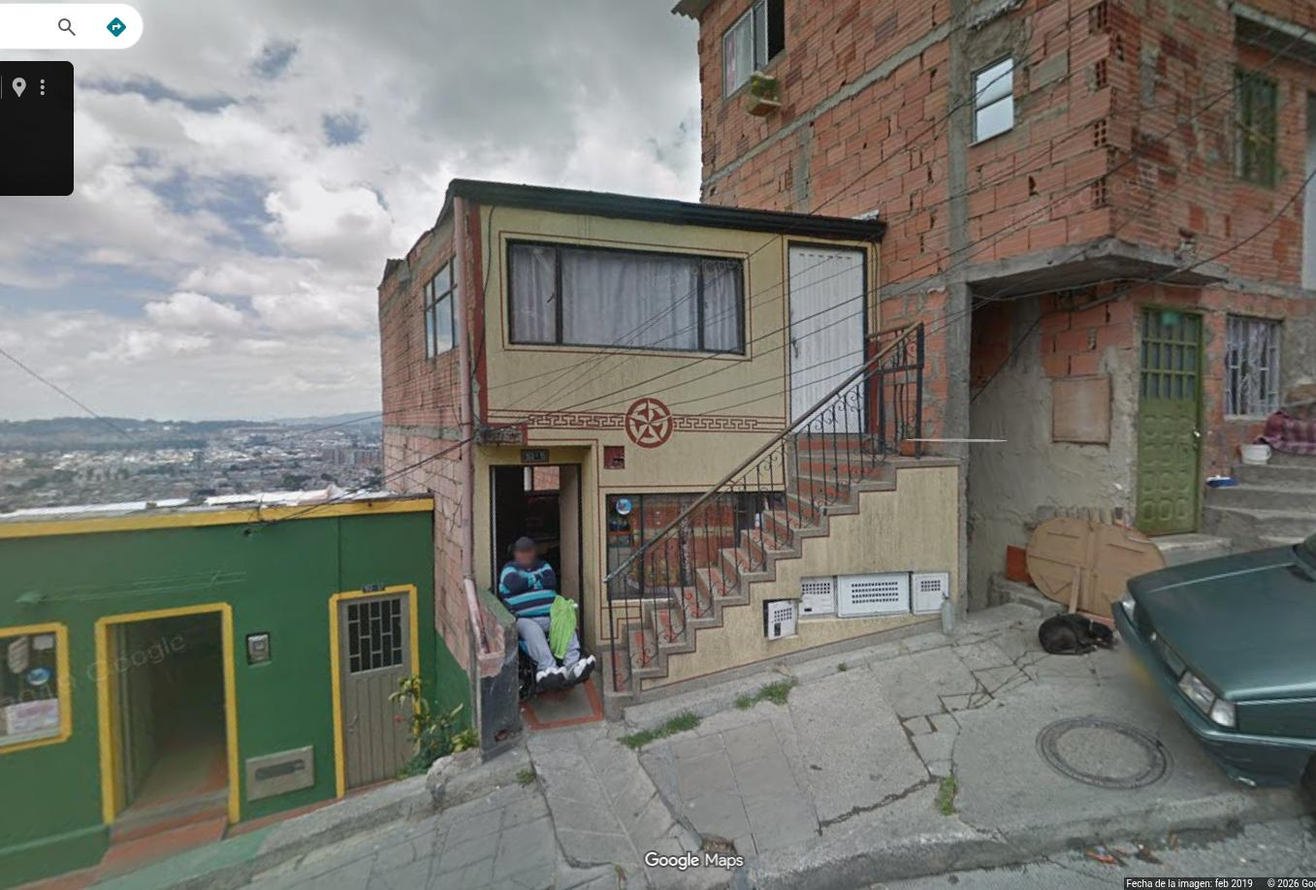casa: (673, 0, 1315, 607), (378, 179, 958, 697), (0, 494, 454, 887)
